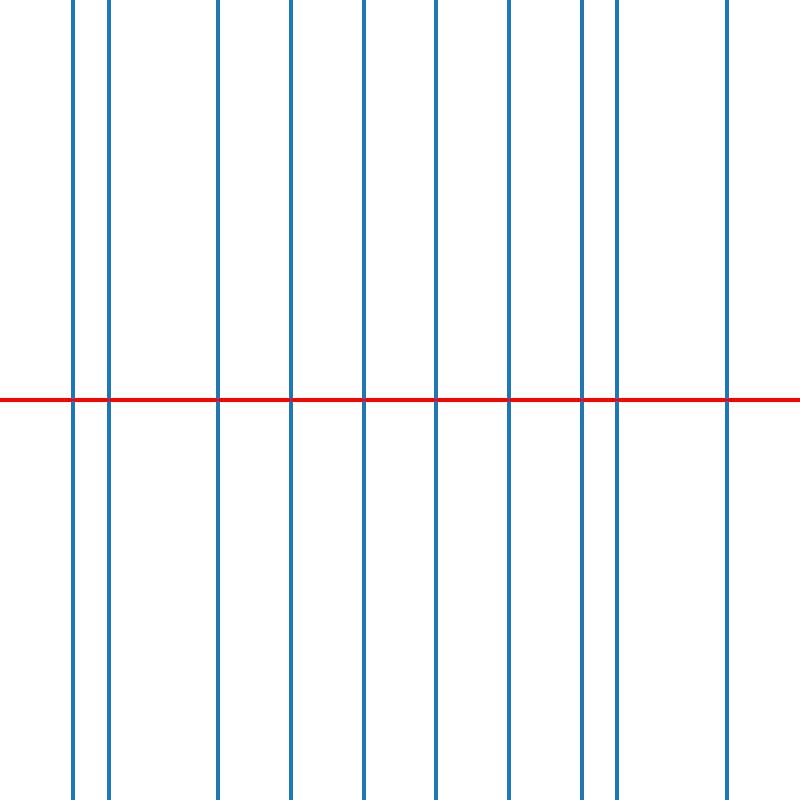root: (432, 396, 440, 404), (105, 396, 112, 404), (214, 396, 221, 404), (360, 396, 367, 404), (614, 396, 621, 404), (287, 396, 294, 404), (723, 396, 730, 404), (69, 396, 76, 404), (578, 396, 585, 404), (505, 396, 512, 404)
